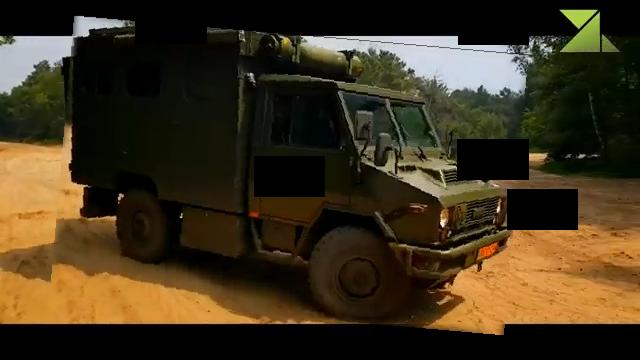MIL_HMMWV: (56, 25, 523, 327)
